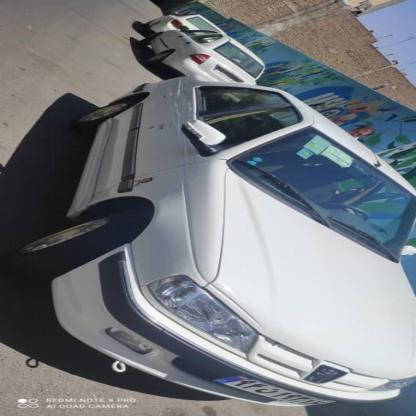Car: (0, 99, 416, 416), (137, 34, 289, 96), (114, 9, 232, 42)
